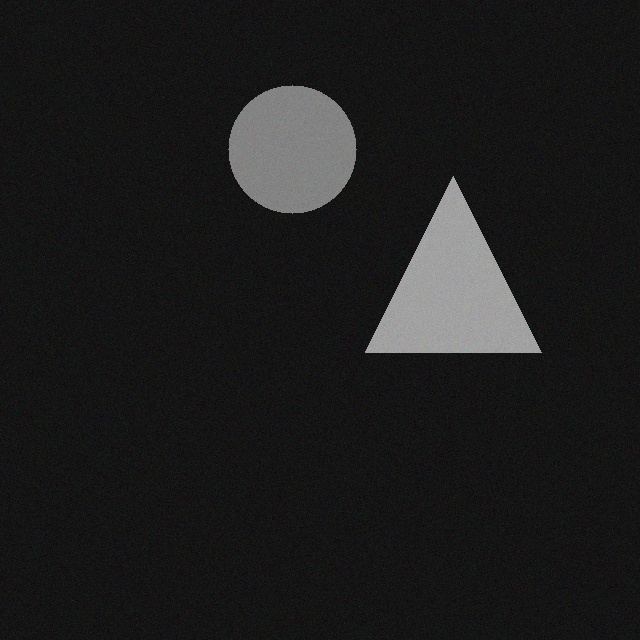circle: (239, 76, 367, 204)
triangle: (376, 167, 552, 343)
